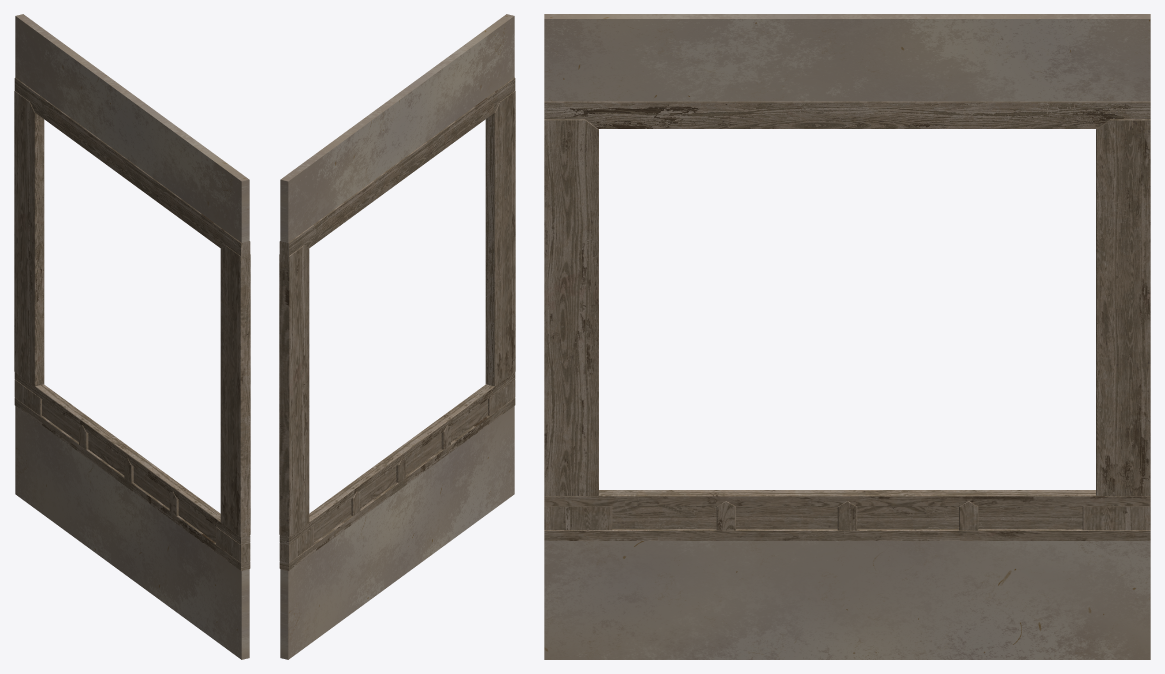
The model's file is SM_GPG_Wall01a.fbx.
3 renders of one model, left to right at view 1: azimuth 30°, elevation 25°; view 2: azimuth 150°, elevation 25°; view 3: azimuth 270°, elevation 25°, orthographic. The views are drawn at different scales.
Visible parts, largest first — view 1: SM_GPG_Wall01a; view 2: SM_GPG_Wall01a; view 3: SM_GPG_Wall01a.
Boxes of the visible parts, x1,y1,x2,y2 form: SM_GPG_Wall01a: (14,14,250,659); SM_GPG_Wall01a: (279,14,515,659); SM_GPG_Wall01a: (544,14,1150,659).
Bounding box in the file's own units: 7.5 × 300 × 350.
Materials: 2 (2 with a texture image).
